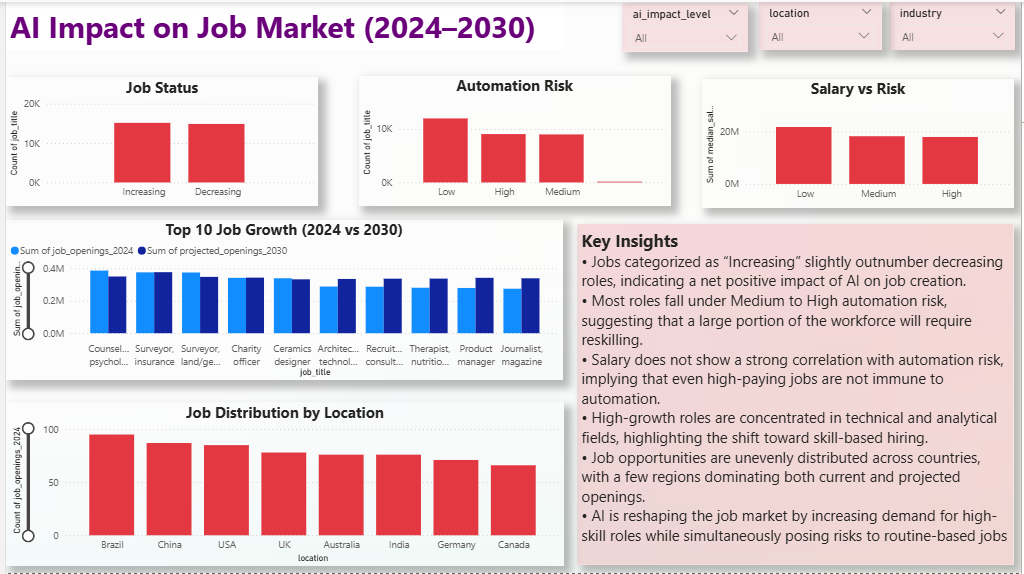

This screenshot's page, from the dashboard's own definition file:
{"tool":"powerbi","page":{"name":"Page 1","canvas":[1280,720],"ordinal":0},"visuals":[{"type":"clusteredColumnChart","title":"Job Status","fields":{"Category":["cleaned_ai_jobs.job_status"],"Y":["CountNonNull(cleaned_ai_jobs.job_title)"]},"box":[0,94.5,393.1,162.5],"z":0},{"type":"clusteredColumnChart","title":"Automation Risk","fields":{"Category":["cleaned_ai_jobs.risk_category"],"Y":["CountNonNull(cleaned_ai_jobs.job_title)"]},"box":[444.1,92.6,393.1,164.4],"z":1000},{"type":"clusteredColumnChart","title":"Top 10 Job Growth (2024 vs 2030)","fields":{"Category":["cleaned_ai_jobs.job_title"],"Y":["Sum(cleaned_ai_jobs.job_openings_2024)","Sum(cleaned_ai_jobs.projected_openings_2030)"]},"box":[0,274.1,701.1,202.9],"z":2000},{"type":"columnChart","title":"Job Distribution by Location","fields":{"Category":["cleaned_ai_jobs.location"],"Y":["CountNonNull(cleaned_ai_jobs.job_openings_2024)"]},"box":[0,505.2,702.6,205.9],"z":3000},{"type":"columnChart","title":"Salary vs Risk","fields":{"Category":["cleaned_ai_jobs.risk_category"],"Y":["Sum(cleaned_ai_jobs.median_salary_usd)"]},"box":[876.9,96.4,393.1,162.5],"z":4000},{"type":"slicer","title":"Job Distribution by Location","fields":{"Values":["cleaned_ai_jobs.industry"]},"box":[1112.9,0,159,60.6],"z":5000},{"type":"slicer","title":"Job Distribution by Location","fields":{"Values":["cleaned_ai_jobs.ai_impact_level"]},"box":[777.3,1,159,60.6],"z":6000},{"type":"slicer","title":"Job Distribution by Location","fields":{"Values":["cleaned_ai_jobs.location"]},"box":[948.4,0,154.4,60.6],"z":7000},{"type":"textbox","box":[0,0,703,60.5],"z":8000},{"type":"textbox","box":[719.2,280.1,549.7,429.5],"z":9000}]}

Visuals, with their boxes in screenshot pixels (x1, y1, x2, y2), scaled from the page's 1280x720 canvas onto the 1024x574 screenshot:
"Job Status" clusteredColumnChart: 0 75 314 205
"Automation Risk" clusteredColumnChart: 355 74 670 205
"Top 10 Job Growth (2024 vs 2030)" clusteredColumnChart: 0 219 561 380
"Job Distribution by Location" columnChart: 0 403 562 567
"Salary vs Risk" columnChart: 702 77 1016 206
"Job Distribution by Location" slicer: 890 0 1018 48
"Job Distribution by Location" slicer: 622 1 749 49
"Job Distribution by Location" slicer: 759 0 882 48
textbox: 0 0 562 48
textbox: 575 223 1015 566
